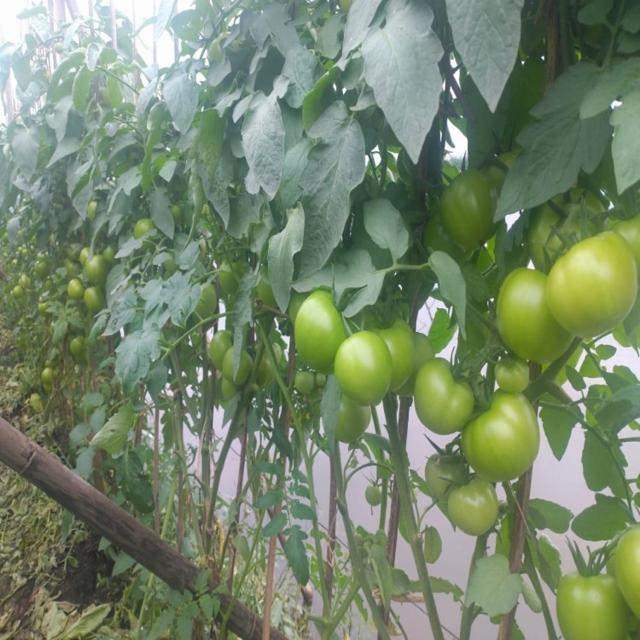tomato: (460, 394, 552, 494), (544, 233, 632, 336), (493, 266, 572, 372), (554, 560, 627, 640), (523, 191, 597, 253), (436, 169, 486, 248), (435, 478, 505, 534), (291, 296, 339, 372), (338, 332, 385, 396), (605, 527, 640, 607), (323, 397, 373, 453), (382, 312, 410, 392), (426, 451, 470, 486), (227, 346, 258, 384), (496, 354, 526, 391), (209, 327, 235, 361), (82, 283, 109, 315), (196, 286, 214, 325), (359, 485, 383, 514), (84, 258, 113, 281), (209, 266, 233, 293), (299, 370, 315, 398), (71, 337, 89, 361), (66, 273, 85, 294), (82, 199, 98, 222), (314, 377, 329, 399), (37, 250, 52, 270), (41, 370, 57, 386), (12, 283, 27, 300), (35, 268, 49, 285), (141, 218, 152, 238), (14, 243, 27, 256), (21, 276, 30, 292), (15, 256, 24, 272)
